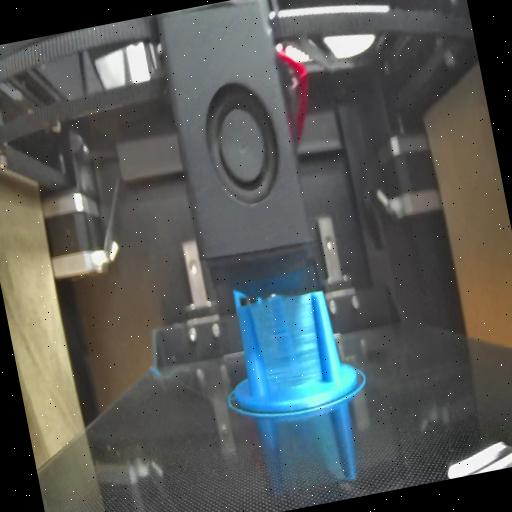stringing: (250, 292, 328, 396)
